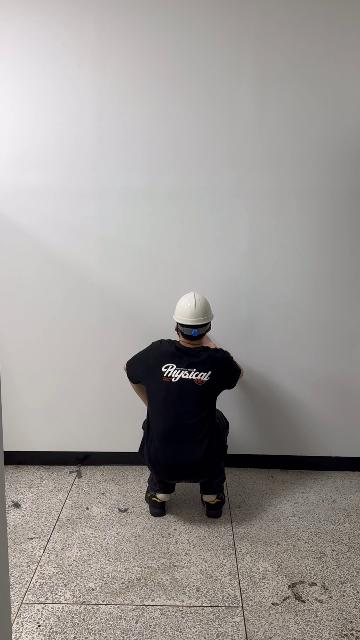helmet_worn: (172, 291, 214, 326)
shoe_worn: (145, 489, 169, 517), (201, 491, 224, 518)
vest_not_worn: (144, 342, 226, 476)
